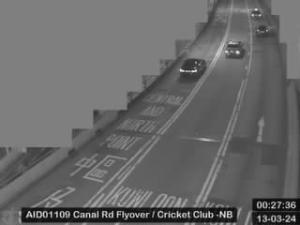vehicle: (179, 58, 206, 78), (225, 42, 244, 58), (255, 24, 269, 38), (250, 8, 262, 20)
